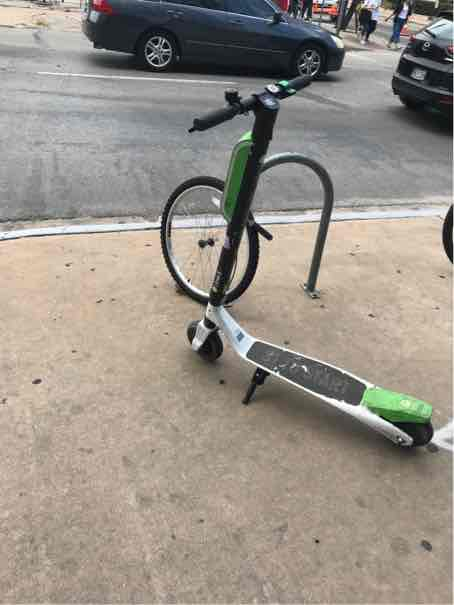scooter: (185, 66, 439, 457)
